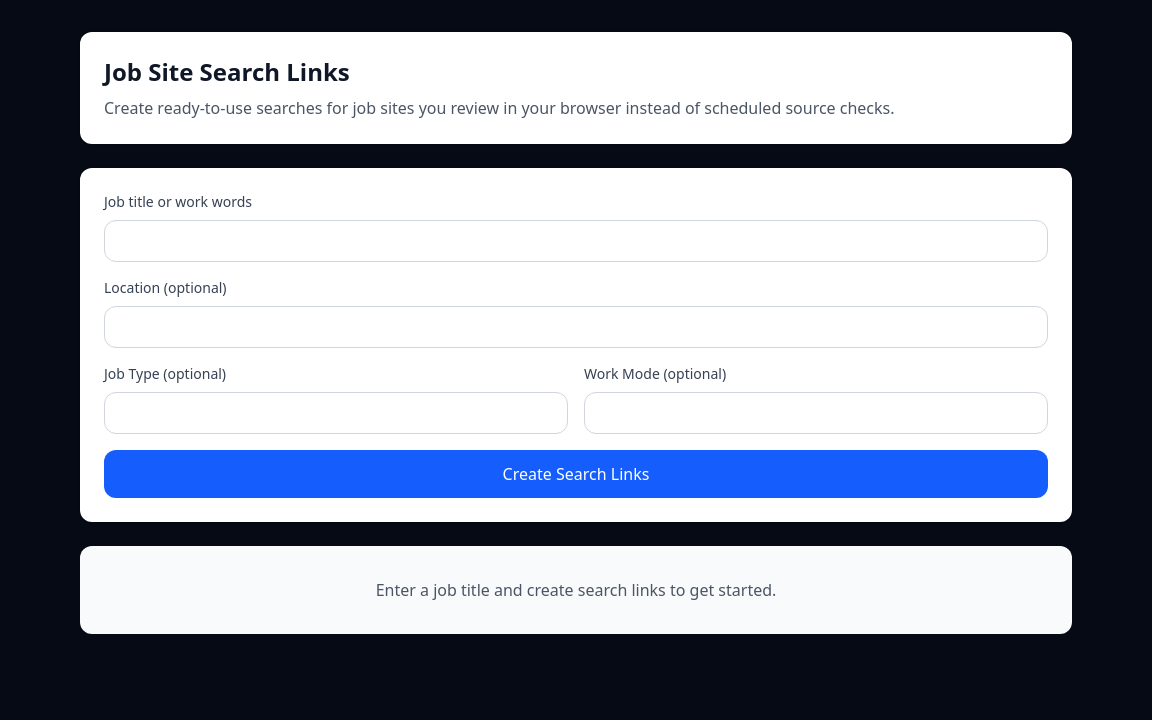
SearchLinksPage › guides users when the search words are missing
The width and height of the screenshot is (1152, 720).
Click the button "Create Search Links". click: (576,474)
box: [104, 450, 1048, 498]
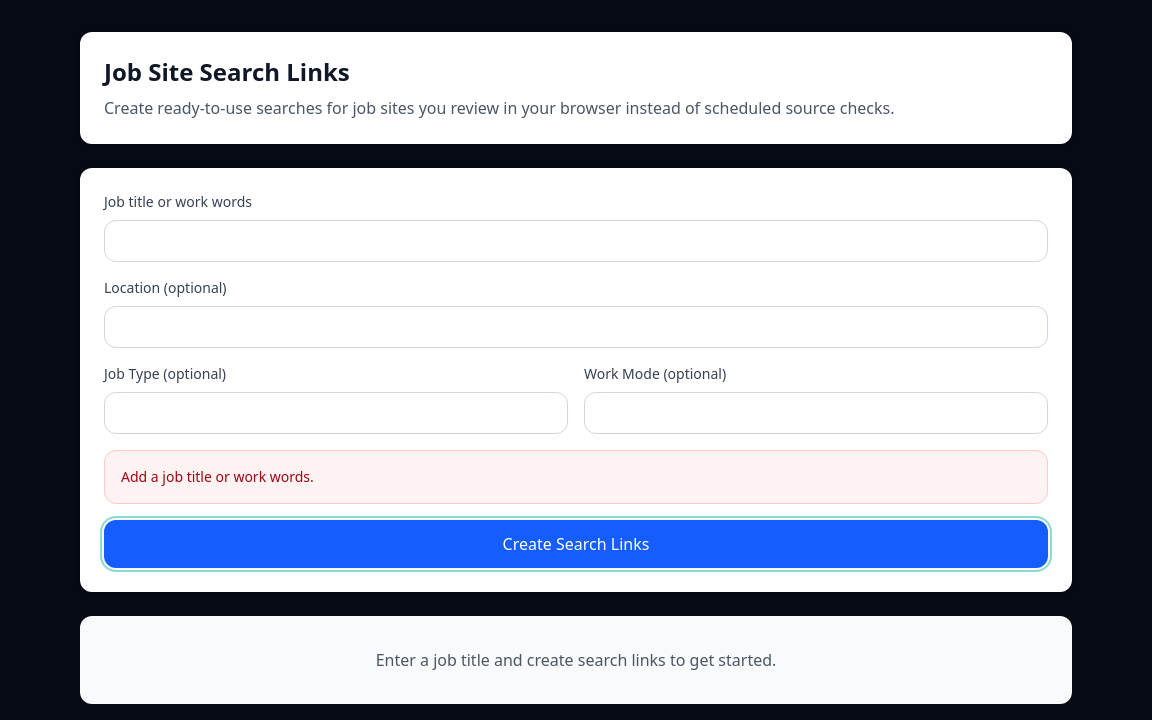
Expected: the message reads "Add a job title or work words.", [121, 467, 314, 486]
